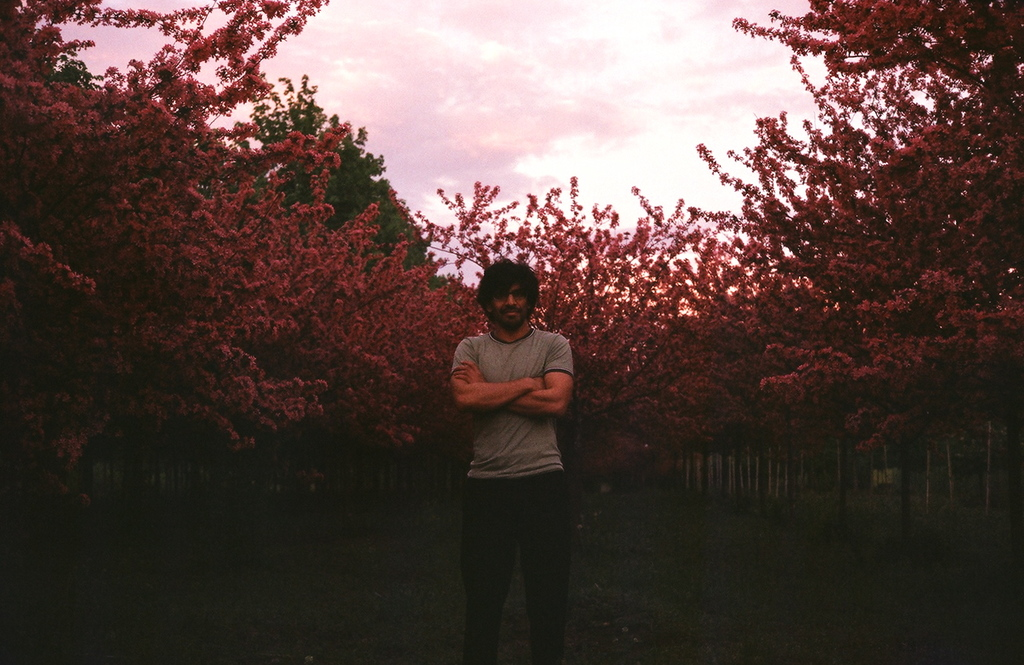Tree: (0, 0, 679, 545), (670, 0, 1023, 533)
